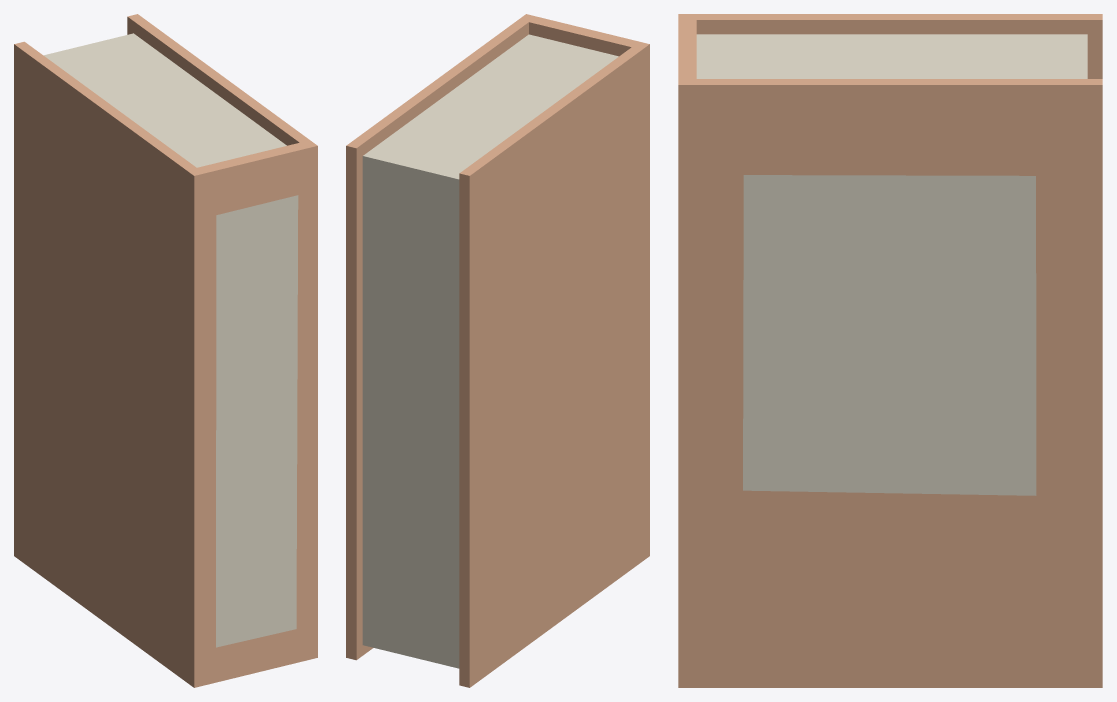
Rendered from book3.fbx.
3 views of the same model, side by side, from view 1: azimuth 30°, elevation 25°; view 2: azimuth 150°, elevation 25°; view 3: azimuth 270°, elevation 25° (orthographic). The views are drawn at different scales.
Visible parts, largest first — view 1: Boole_4; view 2: Boole_4; view 3: Boole_4.
Boxes of the visible parts, x1,y1,x2,y2 form: Boole_4: (14, 14, 317, 687); Boole_4: (346, 14, 649, 687); Boole_4: (678, 14, 1102, 687).
Size of the model in its own units: 11.73 by 46.4 by 29.58.
